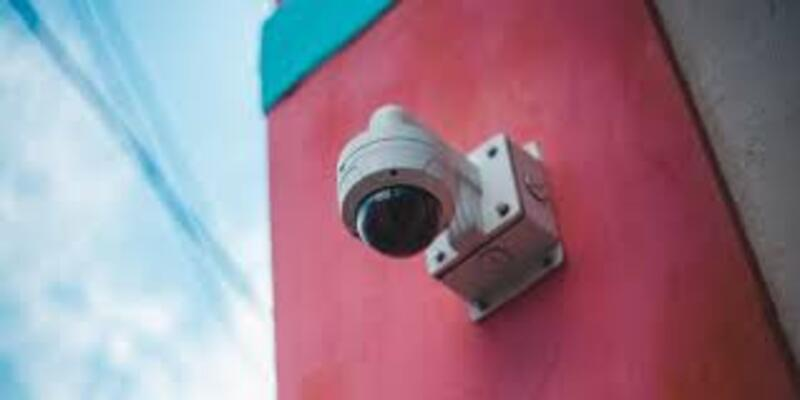dome: (323, 136, 466, 280)
